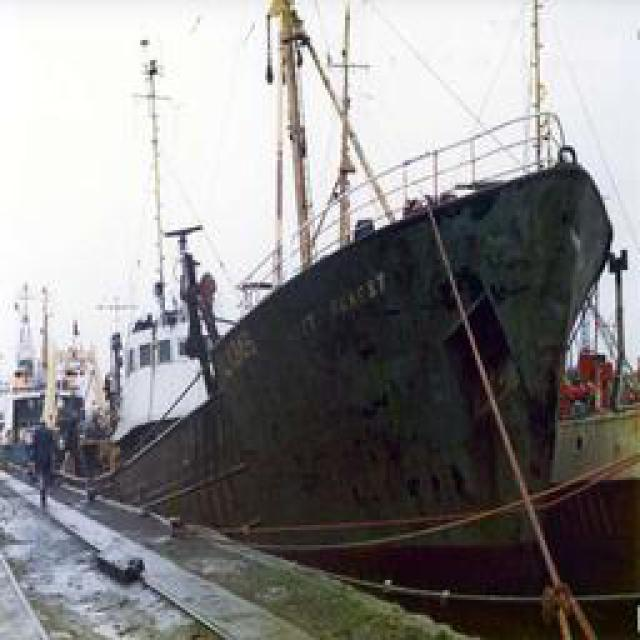Ship: (15, 3, 616, 592)
